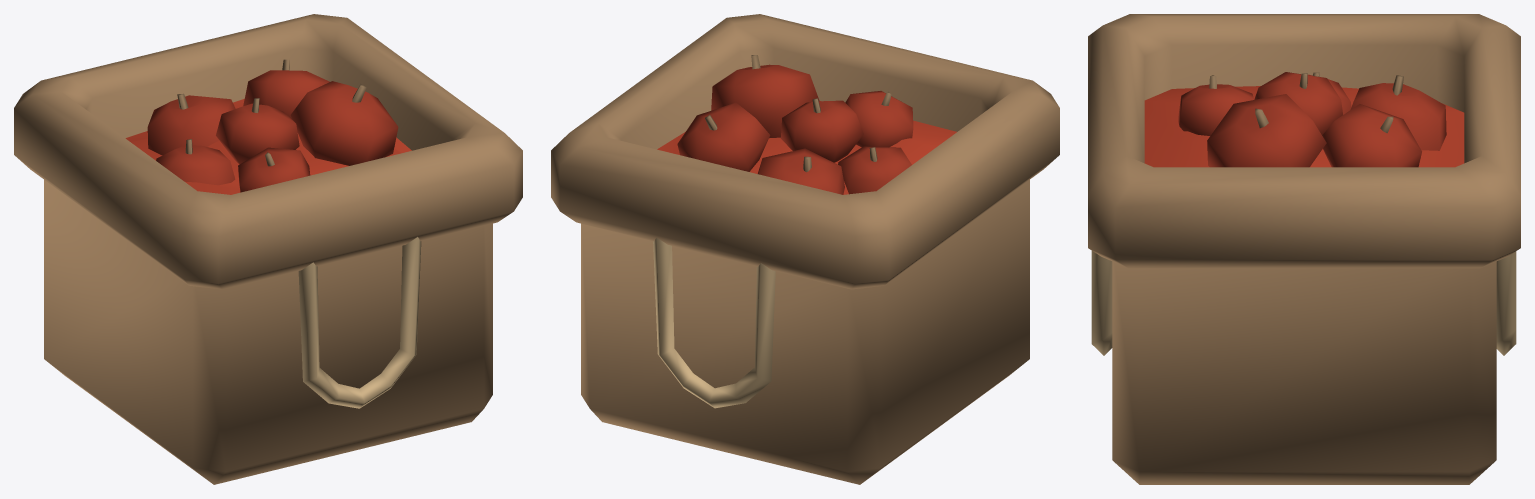
Rendered from rpgpp_ag_basket_02c.fbx.
3 renders of one model, left to right at view 1: azimuth 30°, elevation 25°; view 2: azimuth 150°, elevation 25°; view 3: azimuth 270°, elevation 25°, orthographic. The views are drawn at different scales.
Parts seen in each view (by area): view 1: rpgpp_ag_basket_02c; view 2: rpgpp_ag_basket_02c; view 3: rpgpp_ag_basket_02c.
Part boxes in pixels (left/top/right/bottom): rpgpp_ag_basket_02c: left=14, top=14, right=522, bottom=484; rpgpp_ag_basket_02c: left=551, top=14, right=1059, bottom=484; rpgpp_ag_basket_02c: left=1088, top=14, right=1520, bottom=484.
Size of the model in its own units: 0.4866 by 0.4281 by 0.4866.
